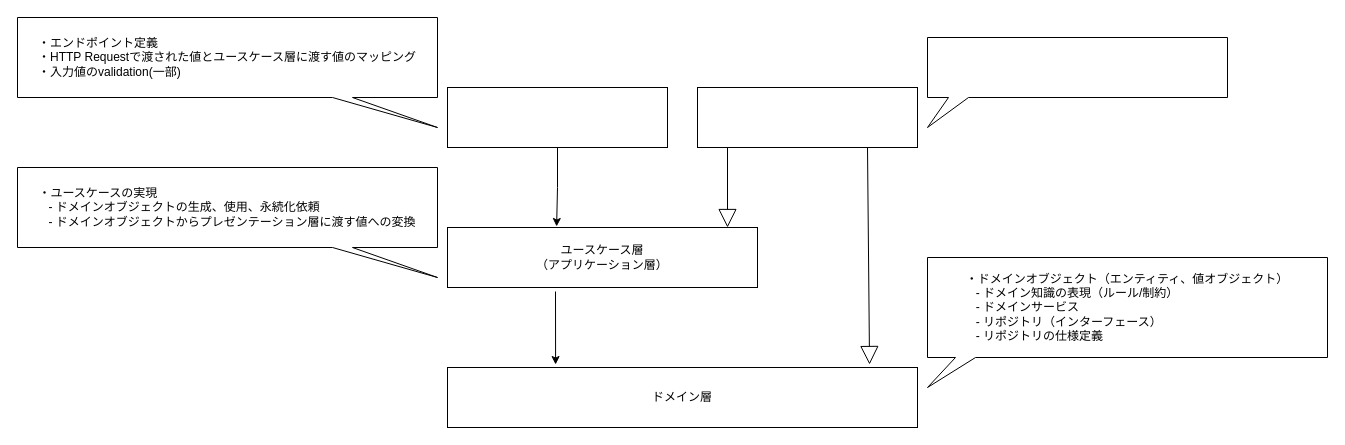
Some shapes in this 1345 by 445 pixel diagram are drawn without their labels. Each missing label, with the box of its shape:
インフラ層: (696, 86, 918, 148)
プレゼンテーション層: (446, 86, 668, 148)
・リポジトリ（実装クラス） - ドメインオブジェクトの永続化/検索の実装: (926, 36, 1228, 128)
